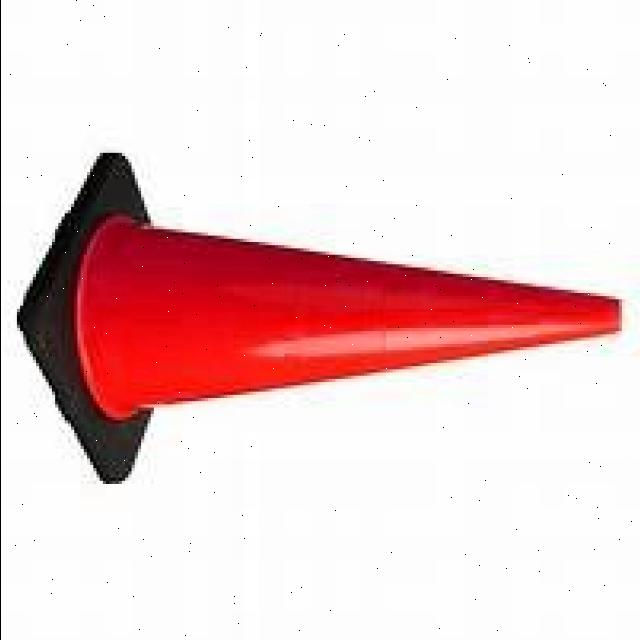traffic cone: (11, 141, 627, 492)
